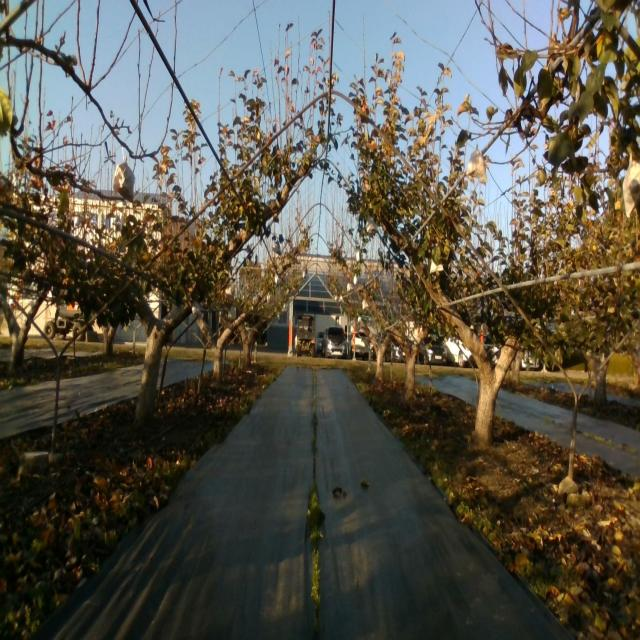pearbags: (622, 154, 640, 218), (113, 155, 135, 202), (465, 145, 488, 183), (365, 214, 379, 234)
